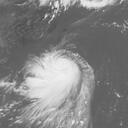cyclone: (25, 49, 95, 110)
